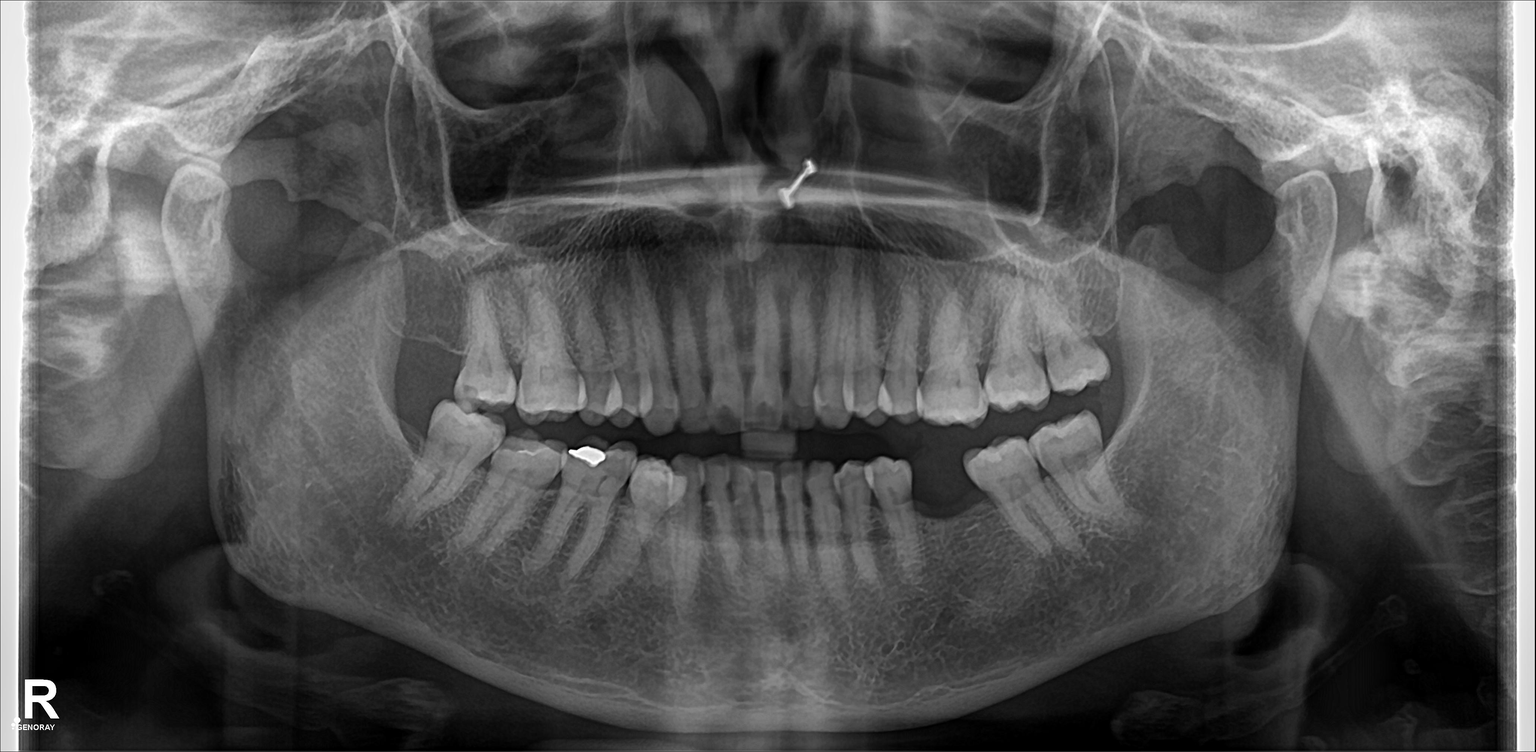Missing Tooth: (404, 274, 463, 399), (372, 389, 431, 499), (924, 458, 982, 559)
